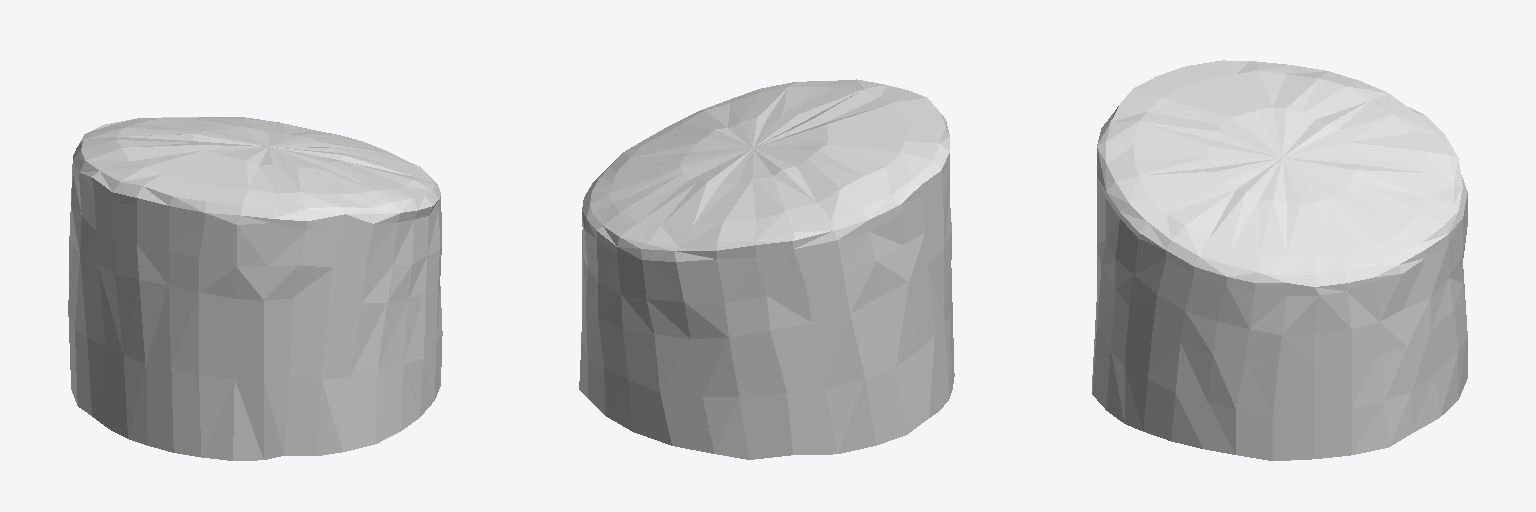
File: left_x_button.obj
3 renders of one model, left to right at view 1: azimuth 30°, elevation 25°; view 2: azimuth 150°, elevation 25°; view 3: azimuth 270°, elevation 25°, orthographic.
Visible parts, largest first — view 1: left_x_button; view 2: left_x_button; view 3: left_x_button.
Part boxes in pixels (left/top/right/bottom): left_x_button: left=68, top=117, right=442, bottom=460; left_x_button: left=579, top=79, right=954, bottom=459; left_x_button: left=1092, top=60, right=1467, bottom=460.
Size of the model in its own units: 0.0081 by 0.006 by 0.0081.